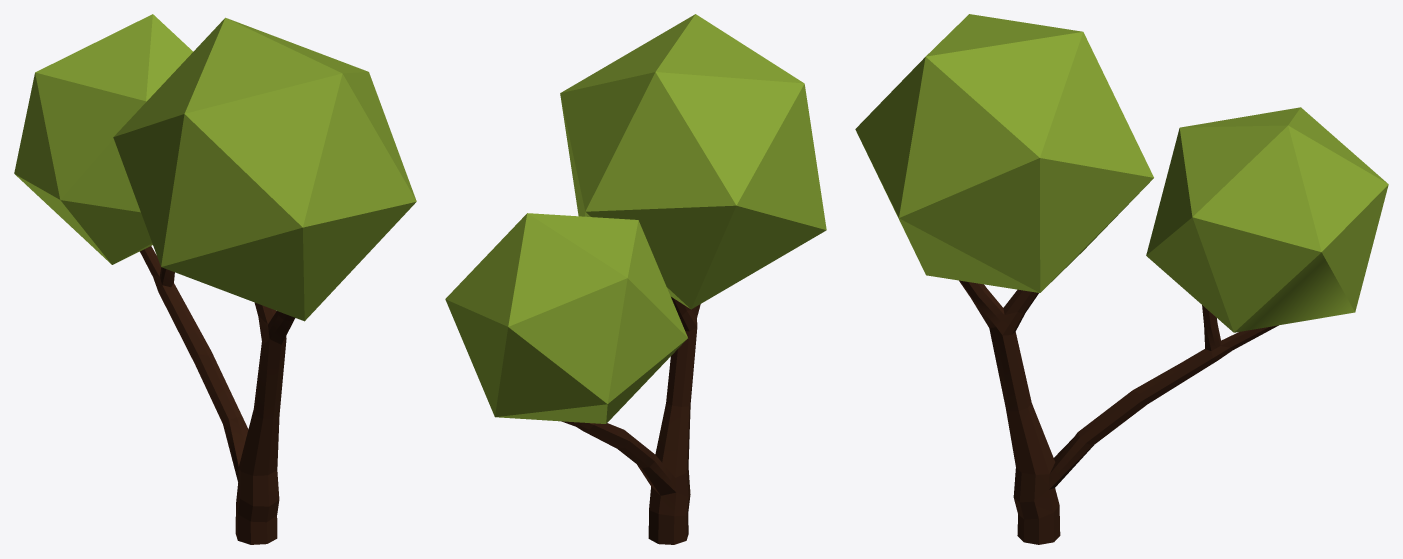
The model's file is Tree3.obj.
The picture shows the model from 3 angles, left to right: view 1: azimuth 30°, elevation 25°; view 2: azimuth 150°, elevation 25°; view 3: azimuth 270°, elevation 25°; orthographic projection. The views are drawn at different scales.
Parts seen in each view (by area): view 1: Tree3_Icosphere.001; view 2: Tree3_Icosphere.001; view 3: Tree3_Icosphere.001.
Boxes of the visible parts, left/top/right/bottom form: Tree3_Icosphere.001: left=14, top=14, right=416, bottom=544; Tree3_Icosphere.001: left=445, top=14, right=826, bottom=544; Tree3_Icosphere.001: left=855, top=14, right=1388, bottom=544.
Size of the model in its own units: 2.06 by 4.08 by 3.95.
